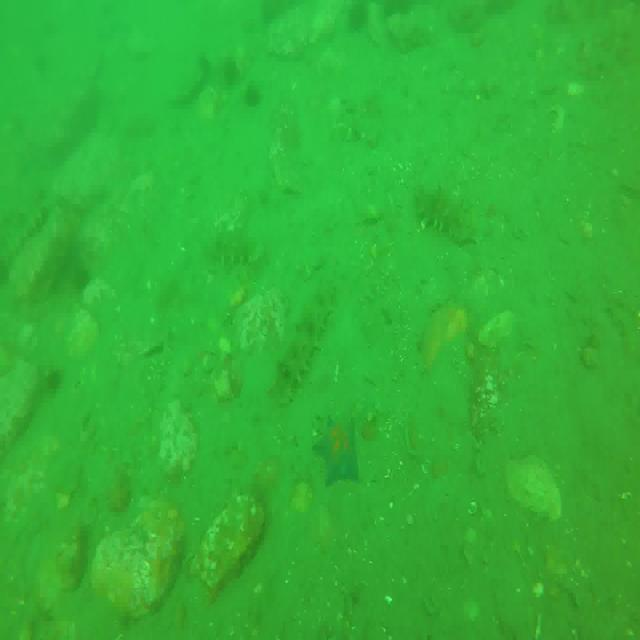echinus: (46, 362, 65, 395), (242, 79, 261, 111), (71, 266, 91, 294)
holothurian: (276, 282, 338, 408), (0, 207, 49, 280), (416, 187, 471, 241), (202, 230, 264, 262)
starfish: (314, 411, 359, 481)
